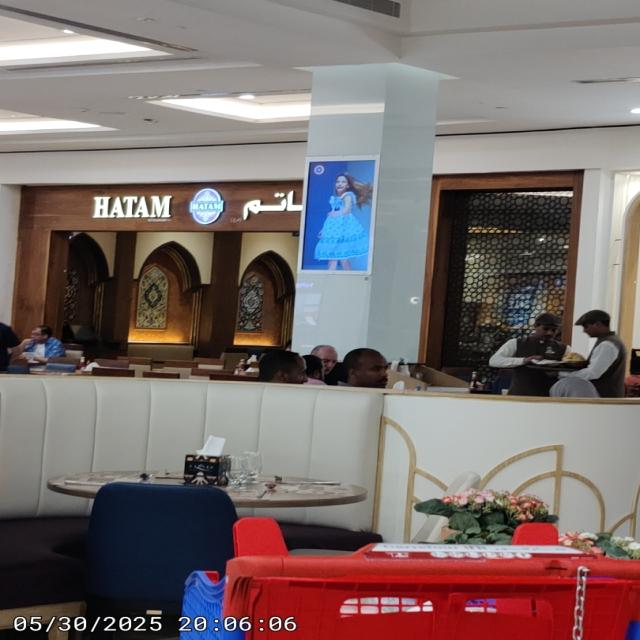digital-board: (298, 153, 377, 272)
